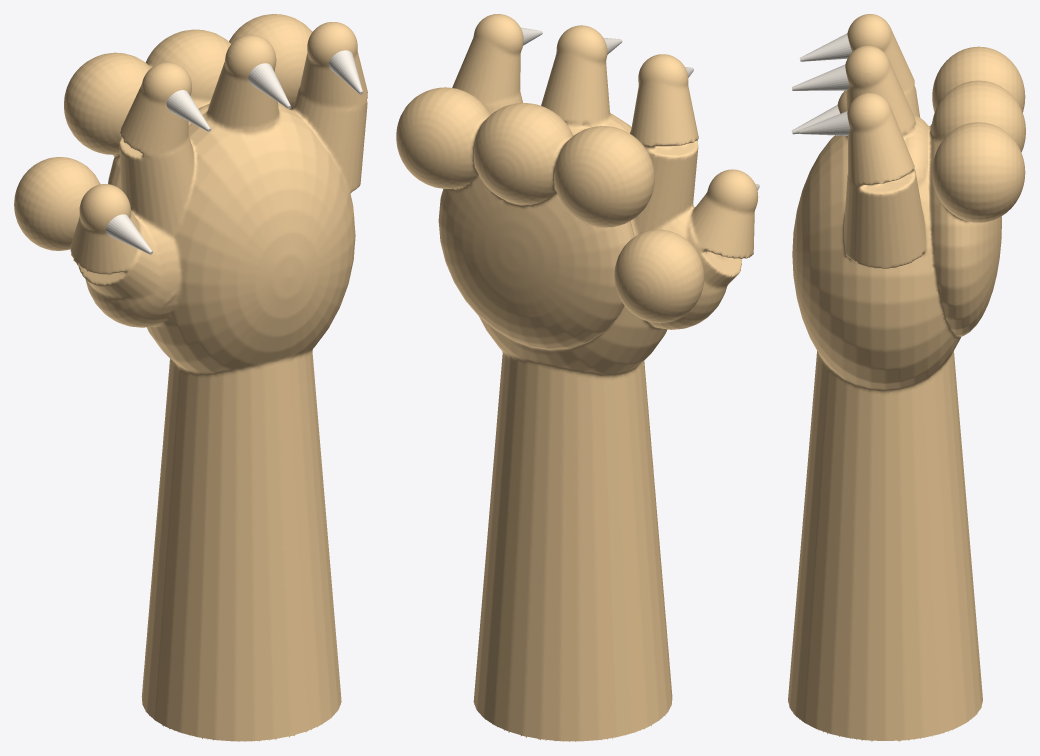
File: paw_ai_v5.glb
The picture shows the model from 3 angles, left to right: view 1: azimuth 30°, elevation 25°; view 2: azimuth 150°, elevation 25°; view 3: azimuth 270°, elevation 25°; orthographic projection. The views are drawn at different scales.
Visible parts, largest first — view 1: Paw; view 2: Paw; view 3: Paw.
Part boxes in pixels (left/top/right/bottom): Paw: left=14, top=14, right=367, bottom=741; Paw: left=396, top=14, right=759, bottom=741; Paw: left=788, top=14, right=1025, bottom=741.
Bounding box in the file's own units: 0.2247 × 0.4827 × 0.1593.
